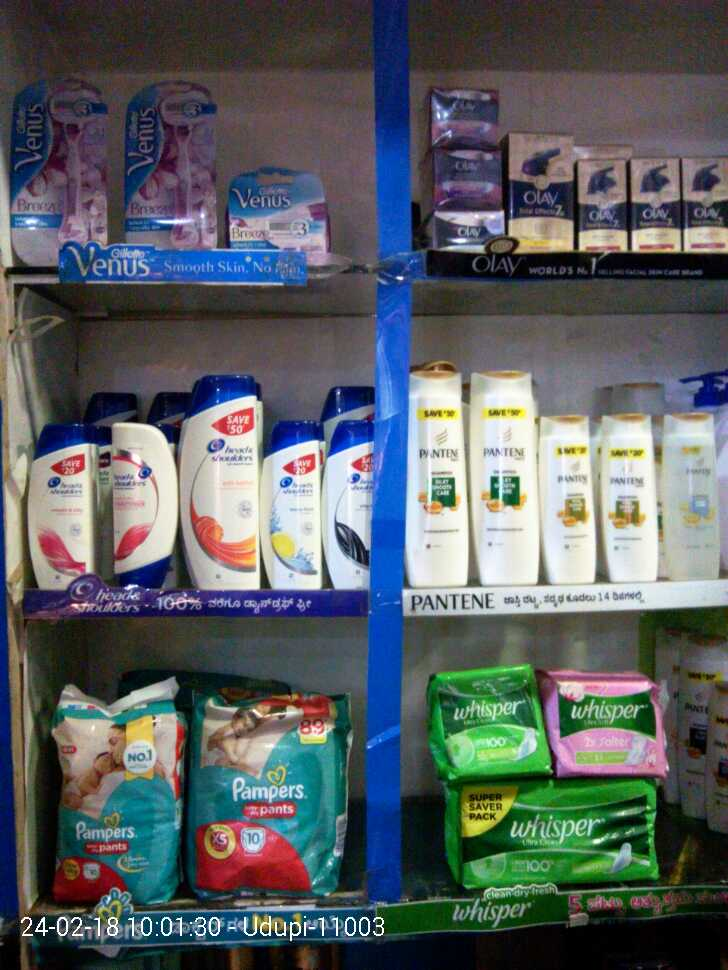venus: (10, 76, 118, 267), (129, 82, 216, 252), (227, 169, 329, 255)
